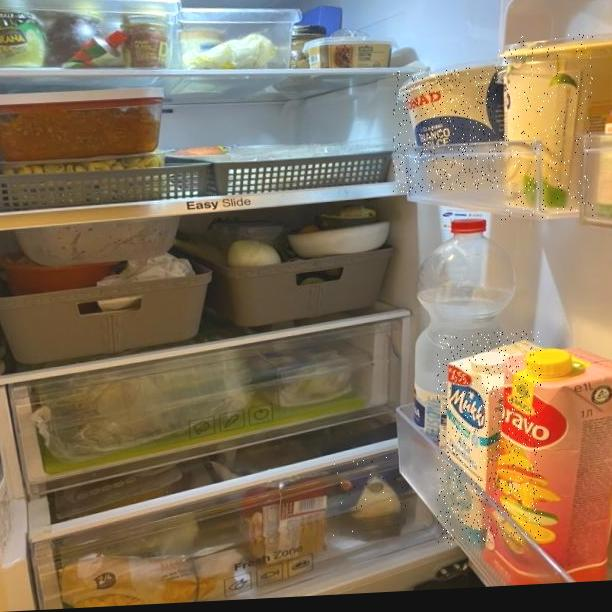cheese: (333, 455, 406, 543)
milk: (437, 330, 542, 545)
yoghurt: (498, 31, 593, 221), (393, 66, 510, 194)
